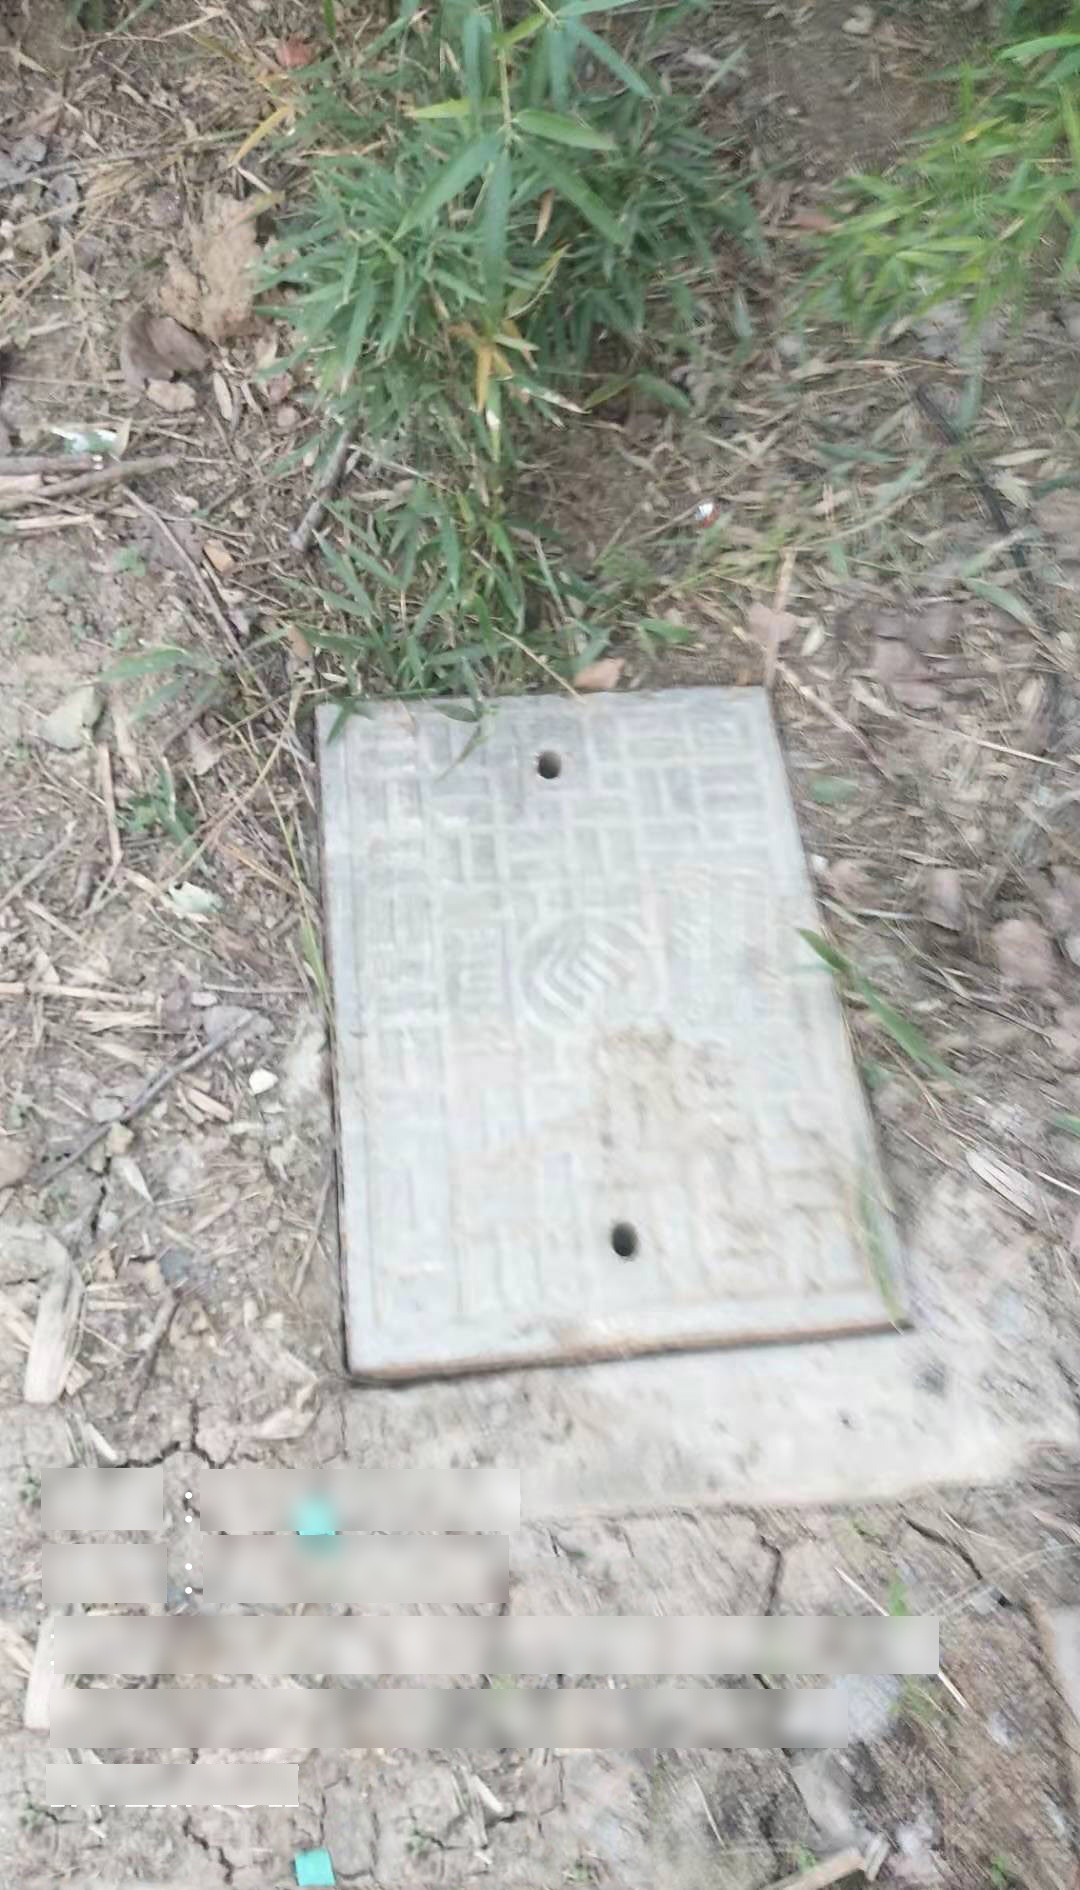good: (312, 680, 919, 1393)
